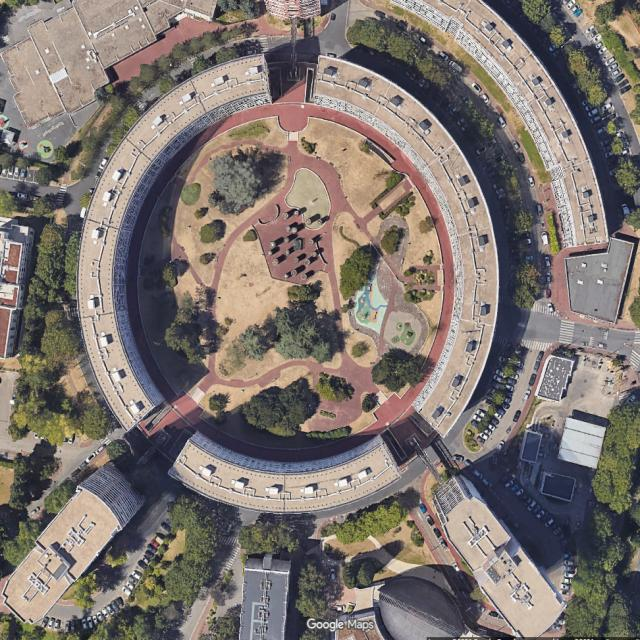immeuble: (287, 18, 556, 443), (20, 17, 289, 441), (393, 0, 640, 270), (414, 469, 572, 640), (0, 457, 149, 630), (169, 432, 403, 512), (0, 4, 114, 129), (72, 0, 169, 67), (238, 551, 290, 640), (264, 0, 320, 20)
